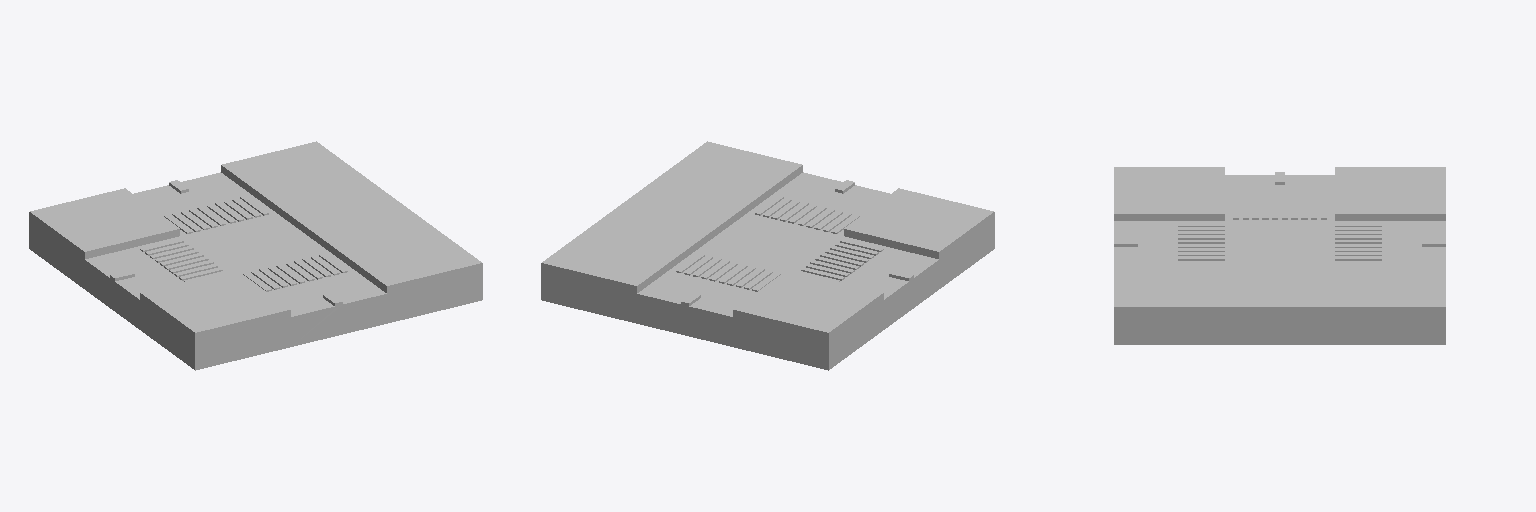
File: Street_3Way.obj
The picture shows the model from 3 angles: view 1: azimuth 30°, elevation 25°; view 2: azimuth 150°, elevation 25°; view 3: azimuth 270°, elevation 25°; orthographic projection.
Visible parts, largest first — view 1: Street_3Way_Cube.007; view 2: Street_3Way_Cube.007; view 3: Street_3Way_Cube.007.
Boxes of the visible parts, box(x1,y1,x2,y2) form: Street_3Way_Cube.007: box(29, 141, 482, 370); Street_3Way_Cube.007: box(541, 141, 994, 370); Street_3Way_Cube.007: box(1114, 167, 1445, 344).
Bounding box in the file's own units: 2 × 0.25 × 2.